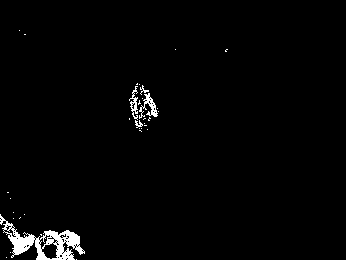person: (129, 83, 158, 133)
